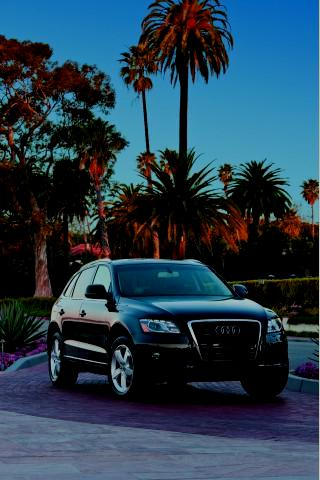Audi: (212, 322, 246, 340)
